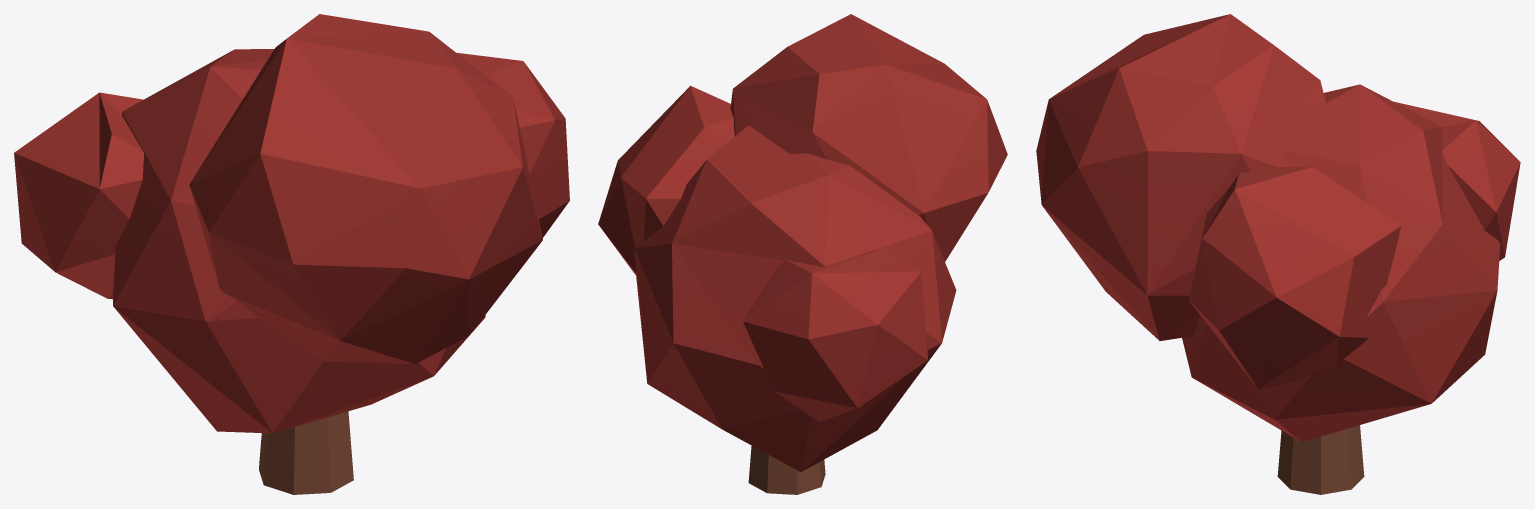
Rendered from Bush_5_gradient_red_vc.fbx.
3 views of the same model, side by side, from view 1: azimuth 30°, elevation 25°; view 2: azimuth 150°, elevation 25°; view 3: azimuth 270°, elevation 25° (orthographic). The views are drawn at different scales.
Parts seen in each view (by area): view 1: Bush_5_gradient_red_vc; view 2: Bush_5_gradient_red_vc; view 3: Bush_5_gradient_red_vc.
Boxes of the visible parts, x1,y1,x2,y2 form: Bush_5_gradient_red_vc: [14, 14, 569, 494]; Bush_5_gradient_red_vc: [598, 14, 1007, 494]; Bush_5_gradient_red_vc: [1036, 14, 1520, 494].
Bounding box in the file's own units: 31.34 × 32.92 × 33.43.
